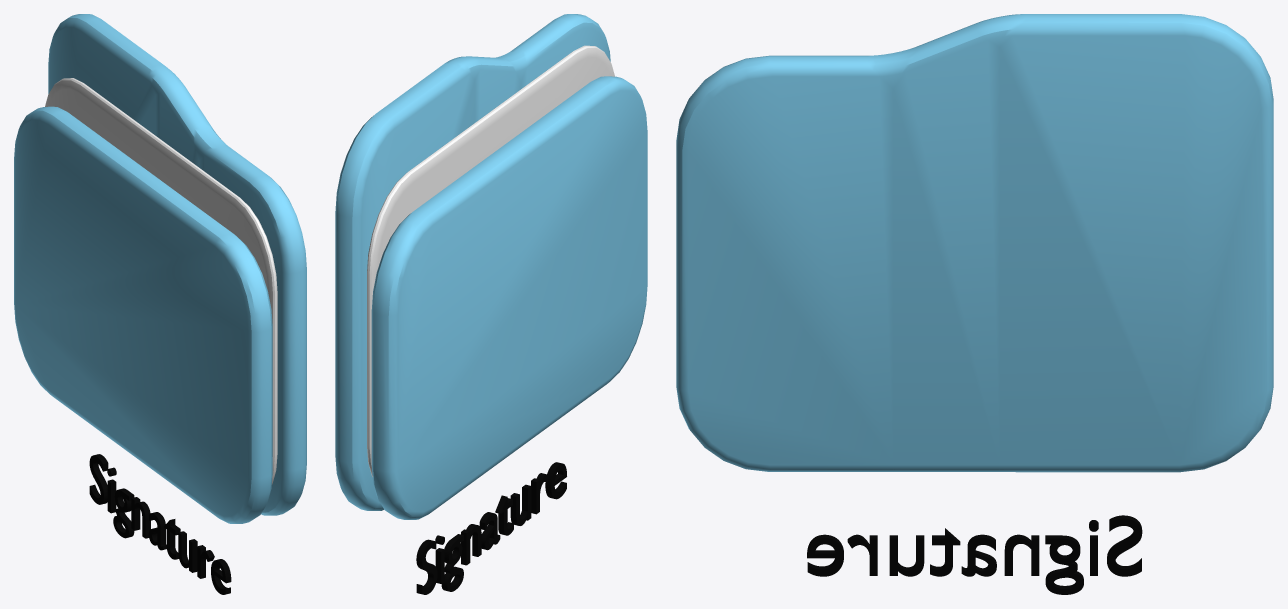
Rendered from Folder11_Signature.fbx.
3 renders of one model, left to right at view 1: azimuth 30°, elevation 25°; view 2: azimuth 150°, elevation 25°; view 3: azimuth 270°, elevation 25°, orthographic. The views are drawn at different scales.
Visible parts, largest first — view 1: Plane.046; view 2: Plane.046; view 3: Plane.046.
Part boxes in pixels (x1,y1,x2,y2): Plane.046: (14,14,306,594); Plane.046: (335,14,647,594); Plane.046: (676,14,1273,594).
Size of the model in its own units: 2.67 by 21.02 by 19.39.
